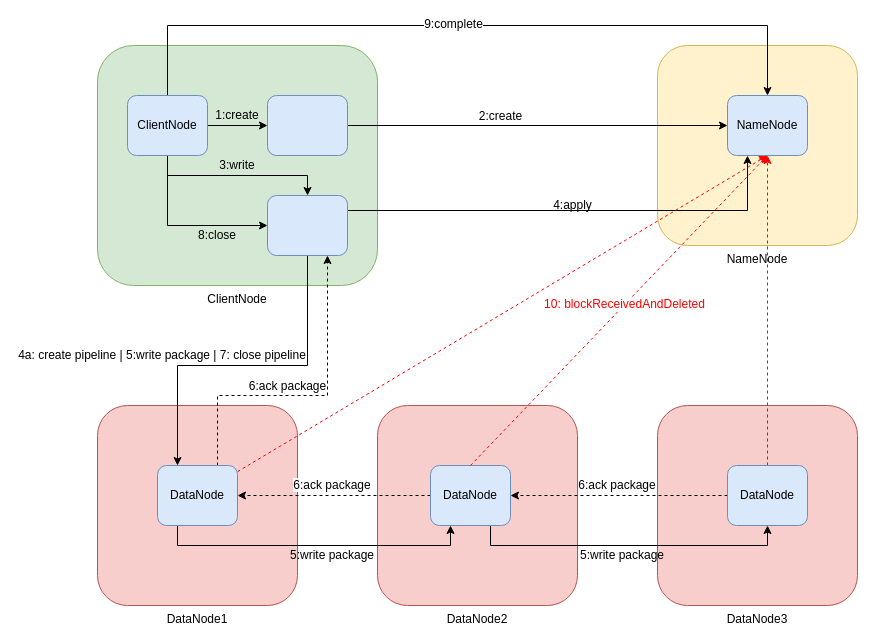
This 875x644 diagram has some shape labels left out. The shapes that lost their labels are listed below. From the top down, each one's centre as x and y in pixels, then its label:
point 307,125: Distributed FileSystem
point 307,225: FSData OutputStream
